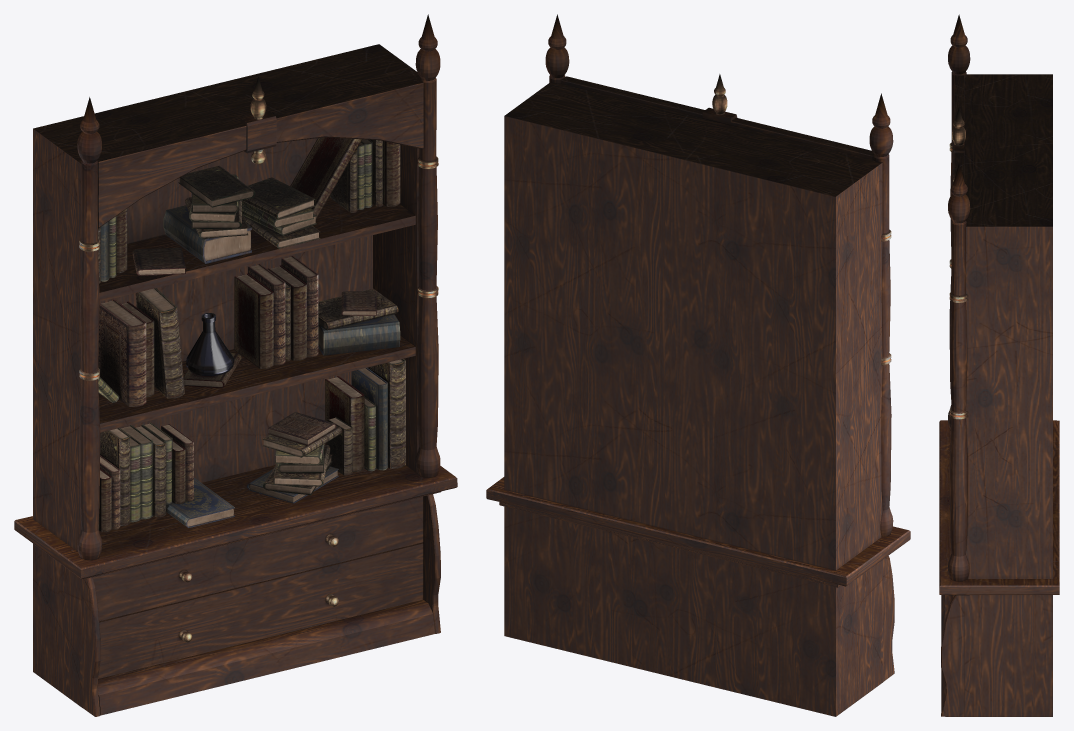
The picture shows the model from 3 angles, left to right: view 1: azimuth 30°, elevation 25°; view 2: azimuth 150°, elevation 25°; view 3: azimuth 270°, elevation 25°; orthographic projection. The views are drawn at different scales.
Visible parts, largest first — view 1: Shkaf2, Shkaf; view 2: Shkaf2; view 3: Shkaf2.
Boxes of the visible parts, x1,y1,x2,y2 form: Shkaf2: [14, 14, 457, 716]; Shkaf: [98, 137, 405, 532]; Shkaf2: [486, 14, 910, 716]; Shkaf2: [939, 14, 1059, 716].
Size of the model in its own units: 51.4 by 15.81 by 79.87.
2 materials, 2 textured.
